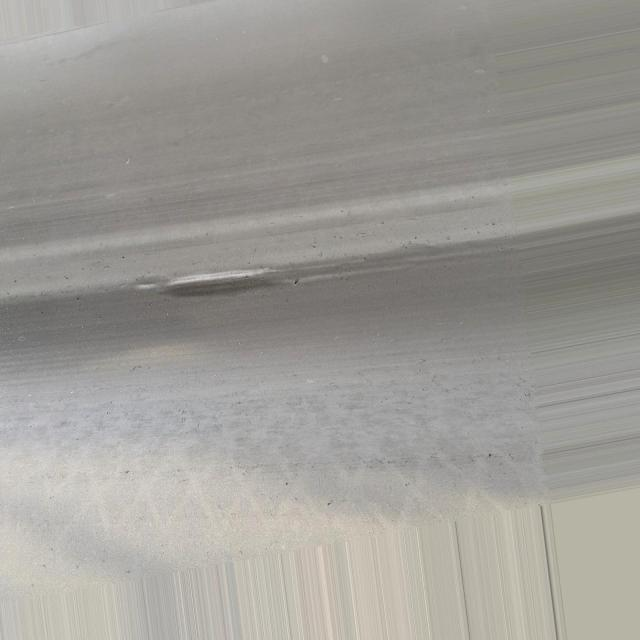Impact Damage: (149, 259, 279, 297)
